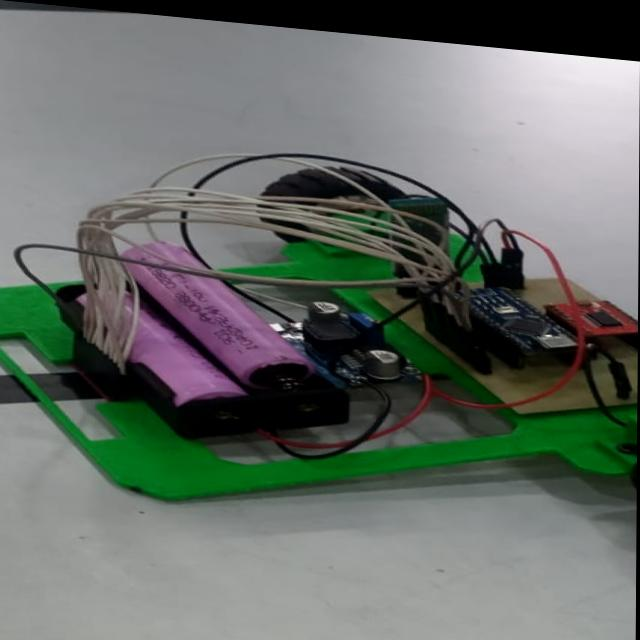vehicle: (0, 130, 639, 532)
